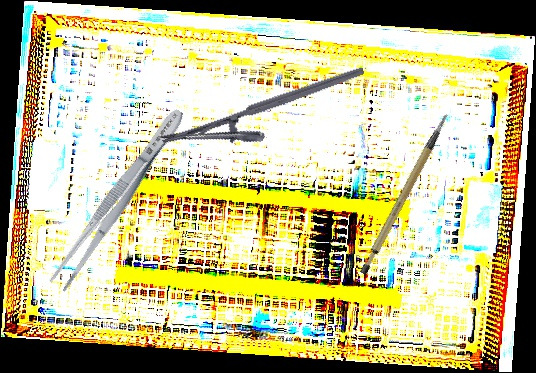Dressing Forceps: (46, 103, 191, 295)
Needle Holder: (160, 65, 375, 173)
Scalpel Handle: (339, 113, 473, 277)
